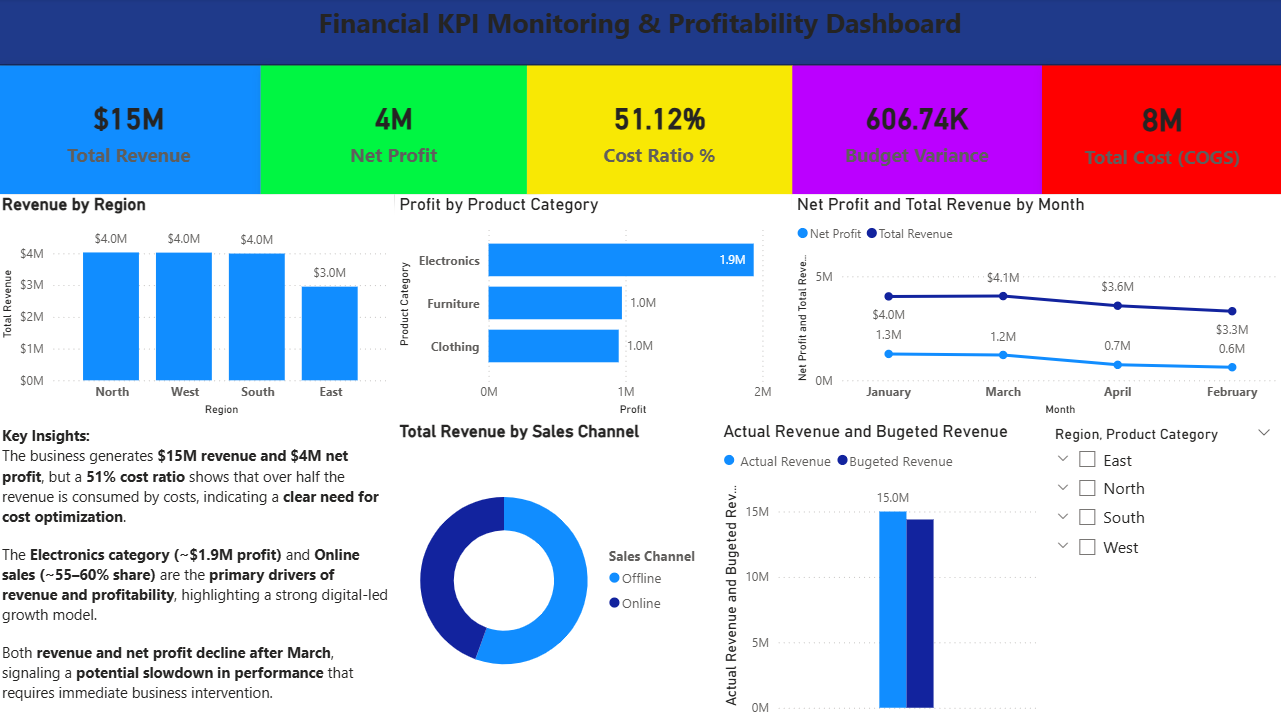

What the dashboard file says about the page in this screenshot:
{"tool":"powerbi","page":{"name":"Page 1","canvas":[1280,720],"ordinal":0},"visuals":[{"type":"textbox","box":[0,0,1280.3,67.2],"z":0},{"type":"card","fields":{"Values":["Financial Data.Total Revenue"]},"box":[0,67.2,262.5,128.1],"z":1000},{"type":"card","fields":{"Values":["Sum(Financial Data.Net Profit)"]},"box":[262.5,67.2,265,128.1],"z":2000},{"type":"card","fields":{"Values":["Sum(Financial Data.Budget Variance)"]},"box":[791.2,67.2,248.8,128.1],"z":3000},{"type":"card","fields":{"Values":["Financial Data.Total Cost Of goods sold"]},"box":[1040,67.2,240.1,128.1],"z":4000},{"type":"clusteredColumnChart","title":"Revenue by Region","fields":{"Category":["Financial Data.Region"],"Y":["Financial Data.Total Revenue"]},"box":[0,195.3,395.6,225.2],"z":5000},{"type":"barChart","title":"Profit by Product Category","fields":{"Category":["Financial Data.Product Category"],"Y":["Sum(Financial Data.Net Profit)"]},"box":[395.6,195.3,395.6,225.2],"z":6000},{"type":"lineChart","fields":{"Category":["Financial Data.Month"],"Y":["Sum(Financial Data.Net Profit)","Financial Data.Total Revenue"]},"box":[791.2,195.3,488.9,225.2],"z":7000},{"type":"donutChart","fields":{"Category":["Financial Data.Sales Channel"],"Y":["Financial Data.Total Revenue"]},"box":[395.6,420.5,322.2,299.8],"z":8000},{"type":"slicer","fields":{"Values":["Financial Data.Region","Financial Data.Product Category"]},"box":[1040,420.5,240.1,299.8],"z":9000},{"type":"textbox","box":[0,420.5,395.6,299.8],"z":10000},{"type":"card","fields":{"Values":["Financial Data.Cost Ratio %"]},"box":[527.4,67.2,263.7,128.1],"z":11000},{"type":"clusteredColumnChart","fields":{"Y":["Sum(Financial Data.Actual Revenue)","Sum(Financial Data.Budgeted Revenue)"]},"box":[717.8,420.5,322.2,299.8],"z":12000}]}

Visuals, with their boxes in screenshot pixels (x1, y1, x2, y2), scaled from the page's 1280x720 canvas onto the 1281x719 screenshot:
textbox: (0, 0, 1280, 67)
card - Financial Data.Total Revenue: (0, 67, 263, 195)
card - Sum(Financial Data.Net Profit): (263, 67, 528, 195)
card - Sum(Financial Data.Budget Variance): (792, 67, 1041, 195)
card - Financial Data.Total Cost Of goods sold: (1041, 67, 1280, 195)
"Revenue by Region" clusteredColumnChart: (0, 195, 396, 420)
"Profit by Product Category" barChart: (396, 195, 792, 420)
lineChart - Financial Data.Month x Sum(Financial Data.Net Profit): (792, 195, 1280, 420)
donutChart - Financial Data.Sales Channel x Financial Data.Total Revenue: (396, 420, 718, 718)
slicer - Financial Data.Region x Financial Data.Product Category: (1041, 420, 1280, 718)
textbox: (0, 420, 396, 718)
card - Financial Data.Cost Ratio %: (528, 67, 792, 195)
clusteredColumnChart - Sum(Financial Data.Actual Revenue) x Sum(Financial Data.Budgeted Revenue): (718, 420, 1041, 718)
